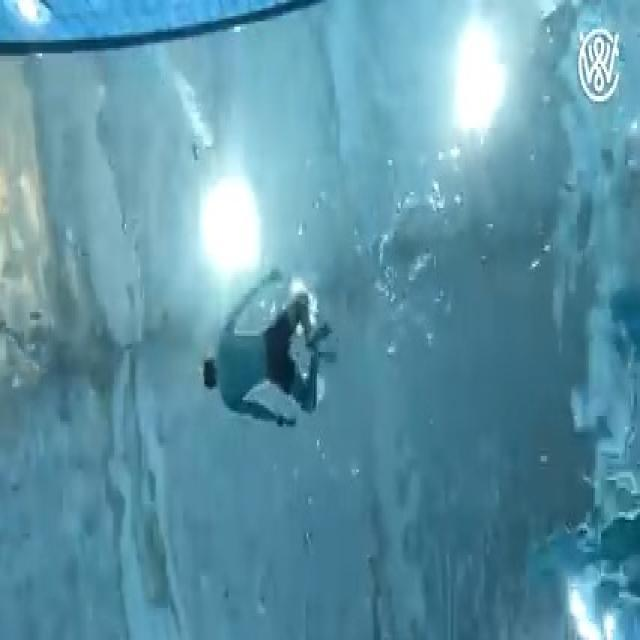Swimming: (199, 272, 333, 433)
